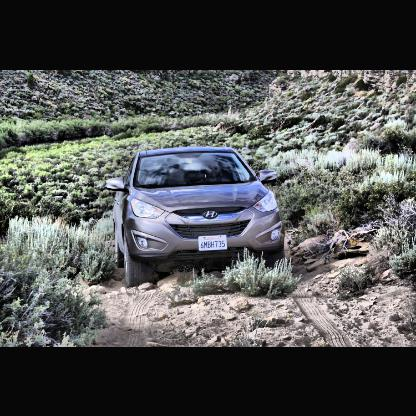Hyundai Tucson SUV 2012: (106, 147, 282, 288)
